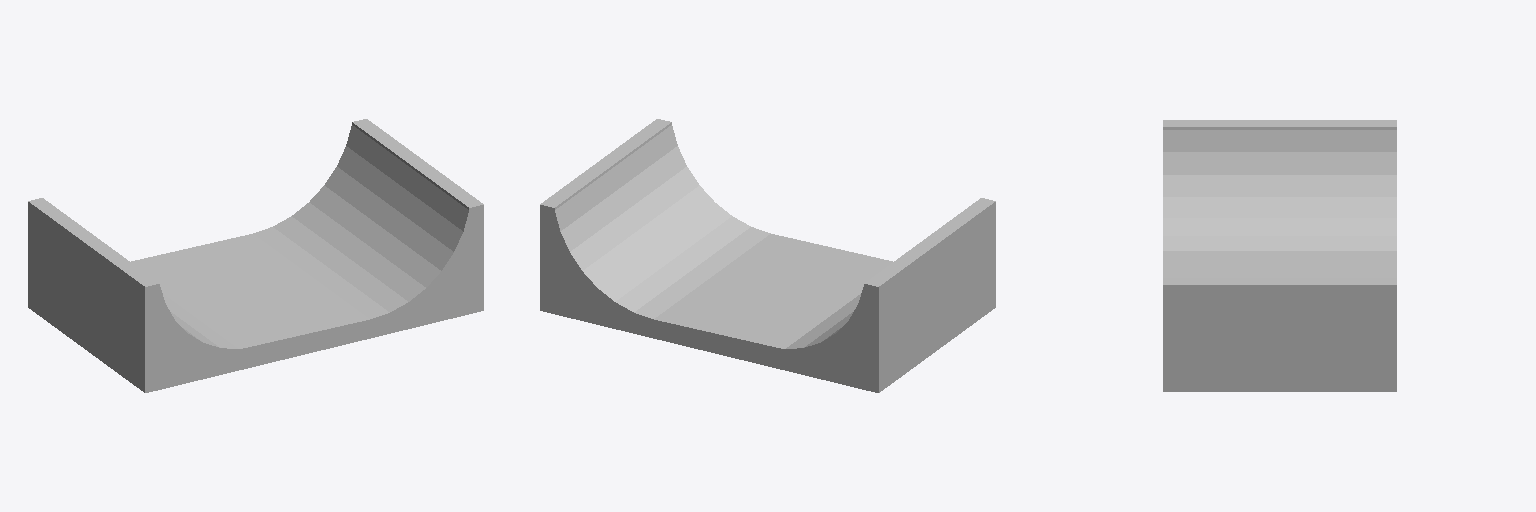
Rendered from ramp.obj.
3 renders of one model, left to right at view 1: azimuth 30°, elevation 25°; view 2: azimuth 150°, elevation 25°; view 3: azimuth 270°, elevation 25°, orthographic.
Visible parts, largest first — view 1: Plane_Plane.001; view 2: Plane_Plane.001; view 3: Plane_Plane.001.
Part boxes in pixels (bbox=[...]): Plane_Plane.001: bbox=[28, 119, 483, 392]; Plane_Plane.001: bbox=[540, 119, 995, 392]; Plane_Plane.001: bbox=[1163, 120, 1396, 391].
Bounding box in the file's own units: 33.32 × 10 × 20.